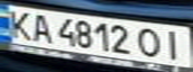1: (90, 19, 112, 52)
2: (109, 21, 136, 55)
4: (51, 16, 78, 47)
8: (72, 18, 93, 50)
A: (27, 11, 57, 44)
I: (157, 28, 190, 61)
K: (3, 7, 36, 42)
O: (133, 25, 163, 60)
